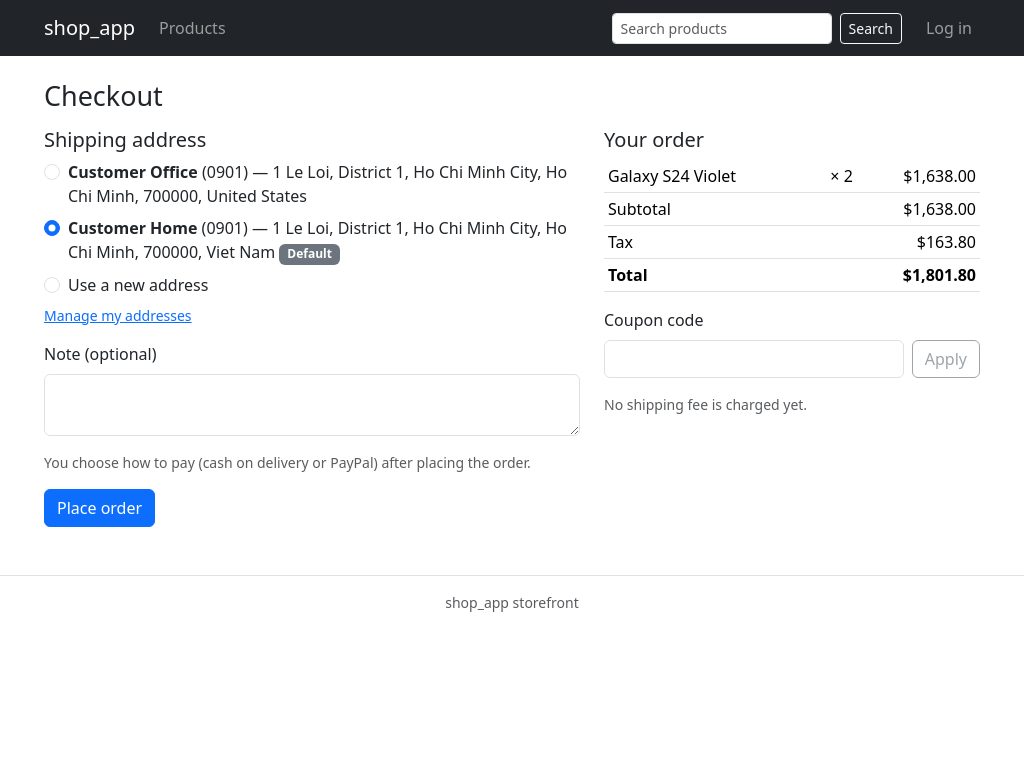
Checkout page › coupon › removing the coupon prices the order without it again
This screenshot has width=1024, height=768.
Expected: the cell with test id "checkout-tax" reads "$163.80", [917,231,976,253]
Type "SAVE10" into the field labelled "Coupon code". click: (754, 359)
box: [604,340,904,378]
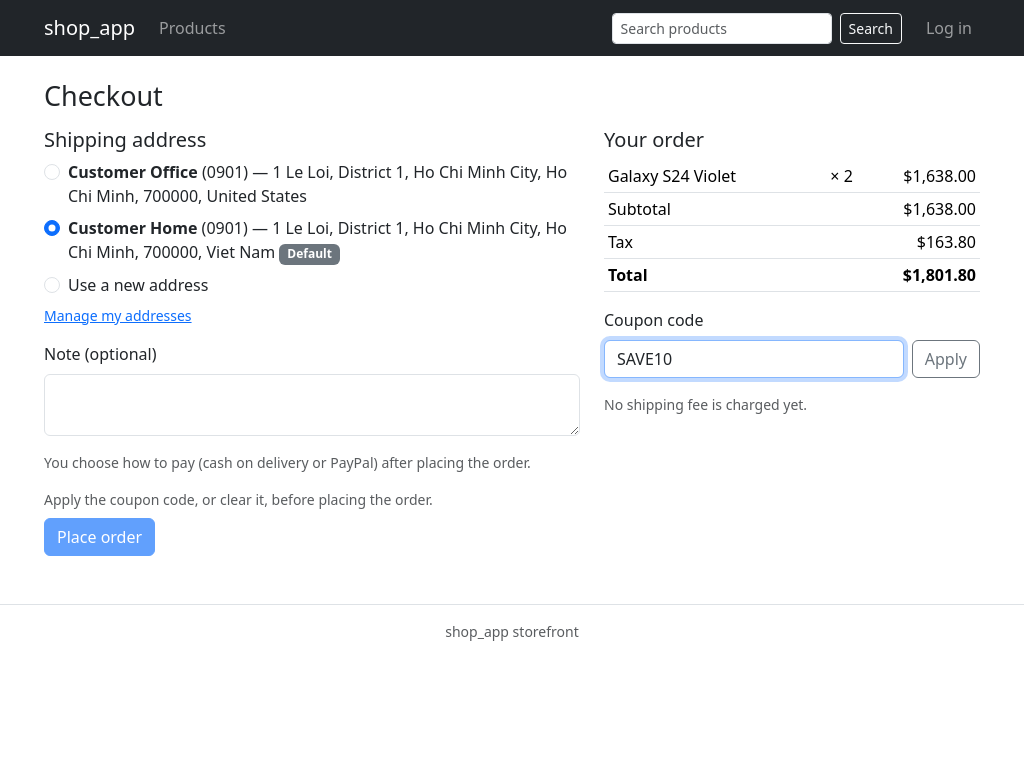
Click the button "Apply". click: (946, 359)
box: [912,340,980,378]
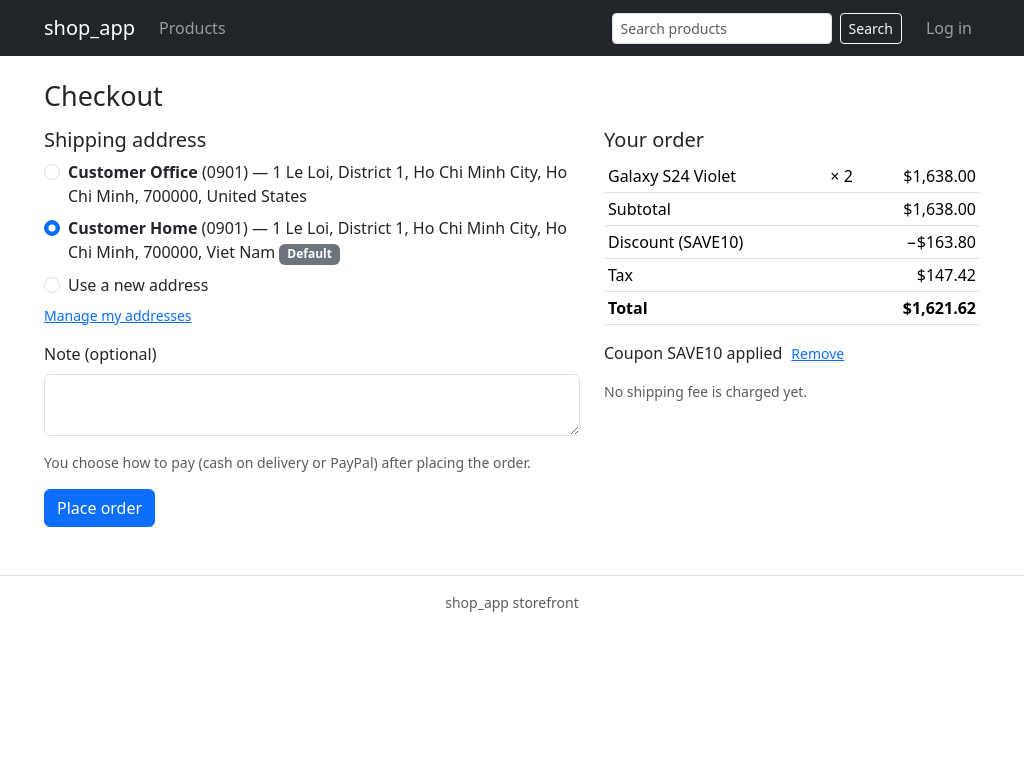
Expected: the column heading with test id "checkout-total" reads "$1,621.62", [903,297,976,319]
Click the button "Remove". click: (818, 353)
box: [790,342,845,365]
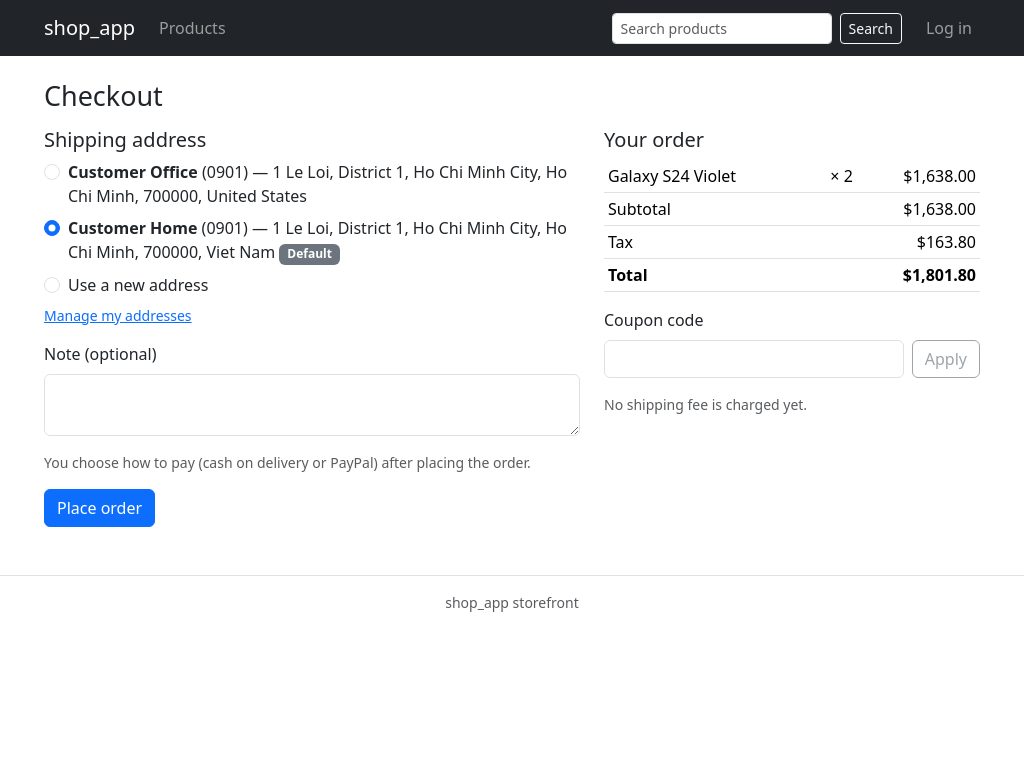
Expected: the column heading with test id "checkout-total" reads "$1,801.80", [903,264,976,286]
Expected: the cell with test id "checkout-discount" is gone
Expected: the field labelled "Coupon code" is empty, [604,340,904,378]
